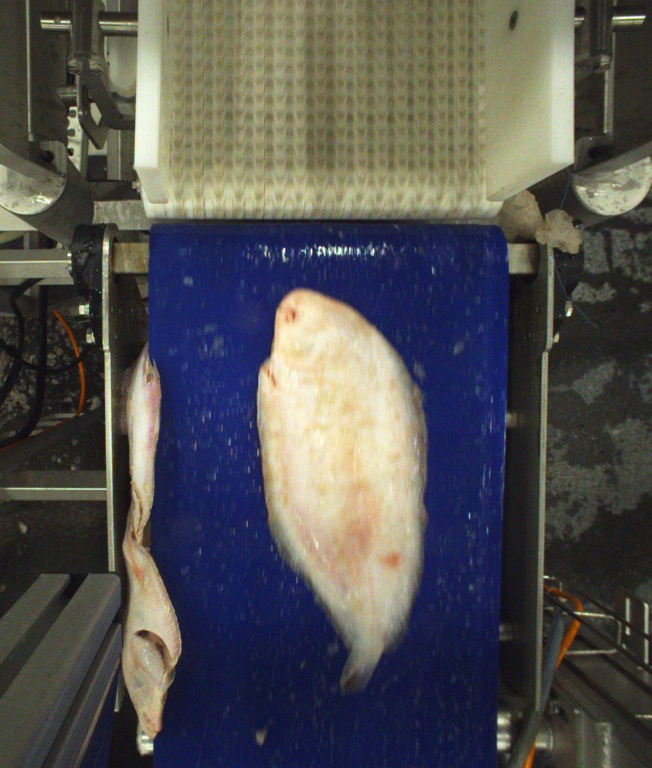SOL: (257, 287, 433, 700)
